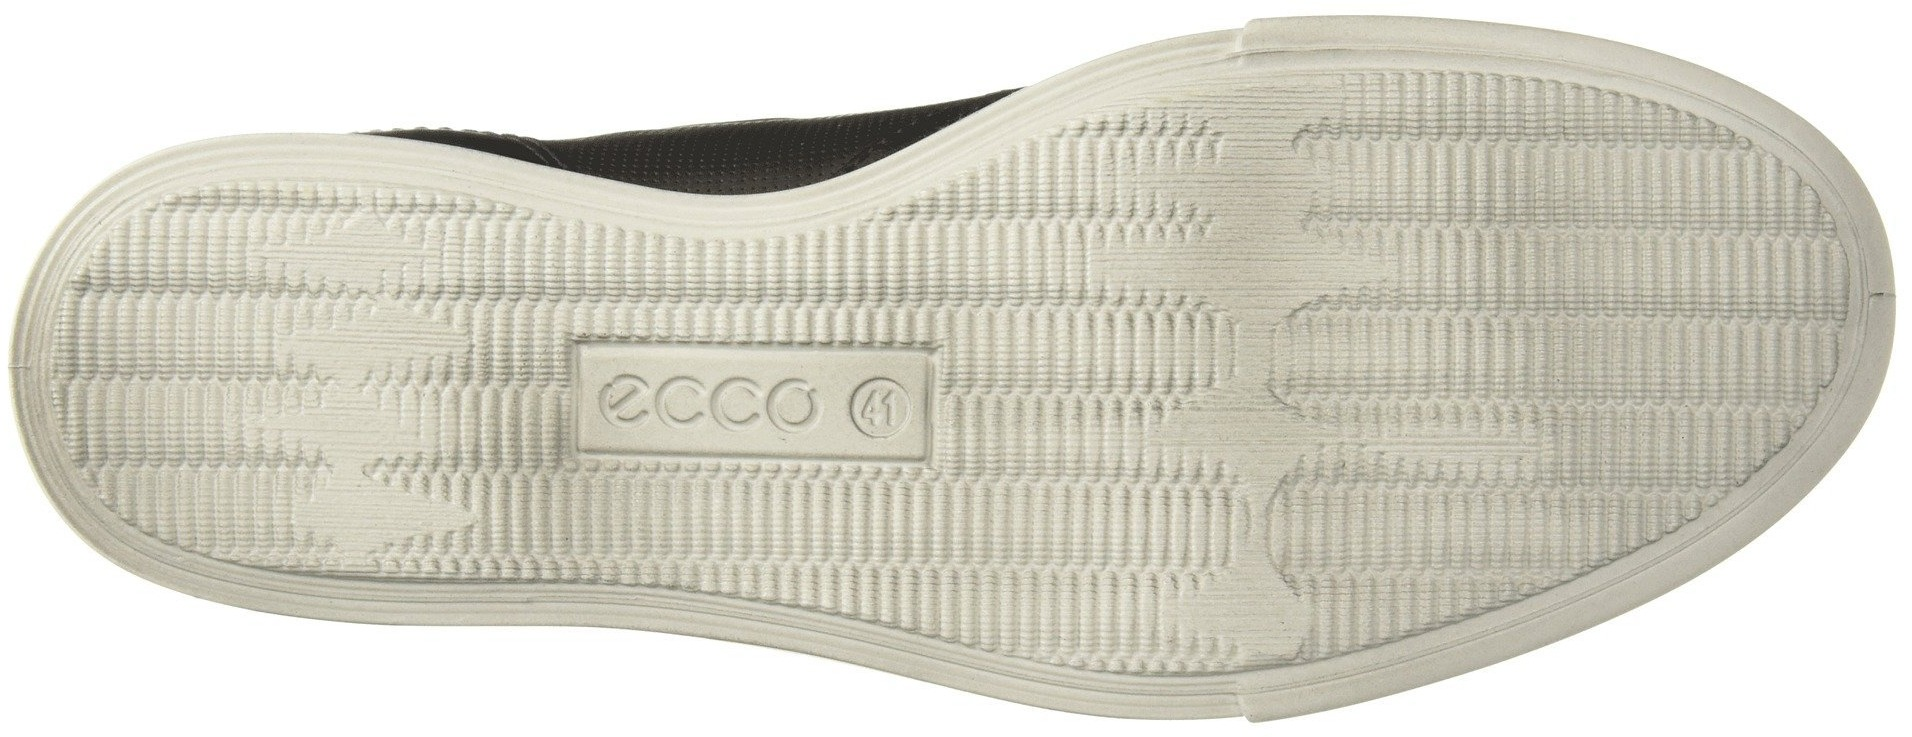text: (712, 362, 811, 469), (602, 355, 704, 451), (863, 383, 915, 436)
